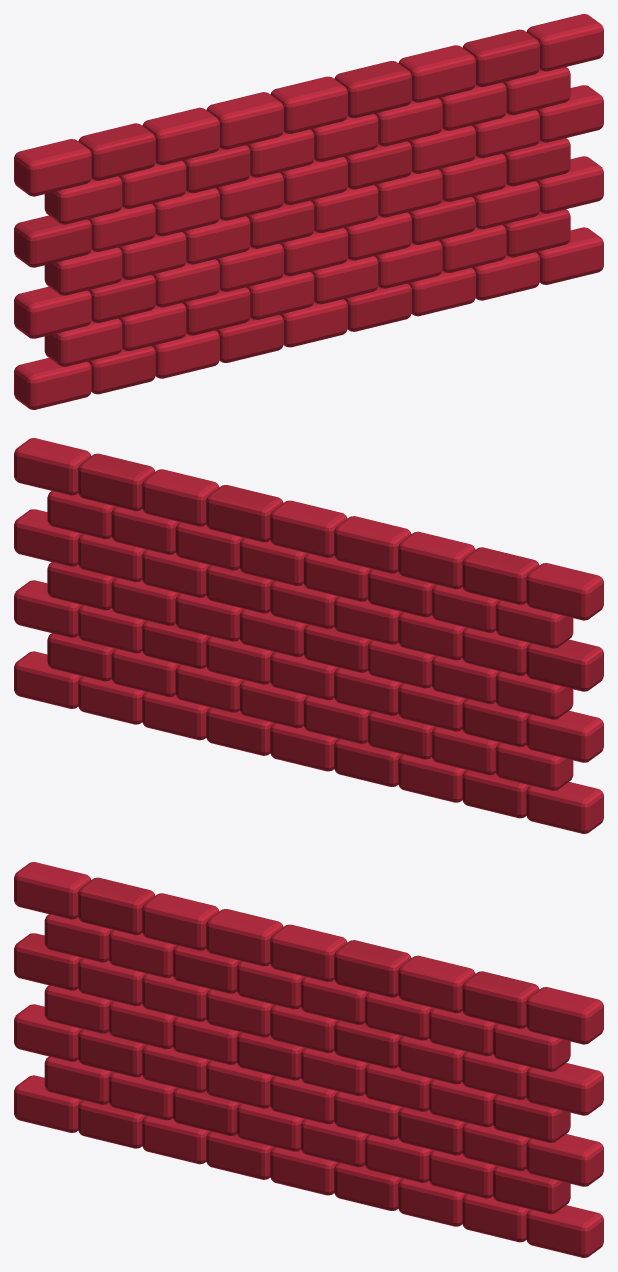
Rendered from Hurdle19.fbx.
3 renders of one model, top to bottom at view 1: azimuth 30°, elevation 25°; view 2: azimuth 150°, elevation 25°; view 3: azimuth 330°, elevation 25°, orthographic.
Visible parts, largest first — view 1: Hurdle19; view 2: Hurdle19; view 3: Hurdle19.
Boxes of the visible parts, left/top/right/bottom form: Hurdle19: left=14, top=14, right=603, bottom=409; Hurdle19: left=14, top=438, right=603, bottom=833; Hurdle19: left=14, top=862, right=603, bottom=1257.
Bounding box in the file's own units: 5.69 × 2.35 × 0.3356.
1 material, 1 textured.
